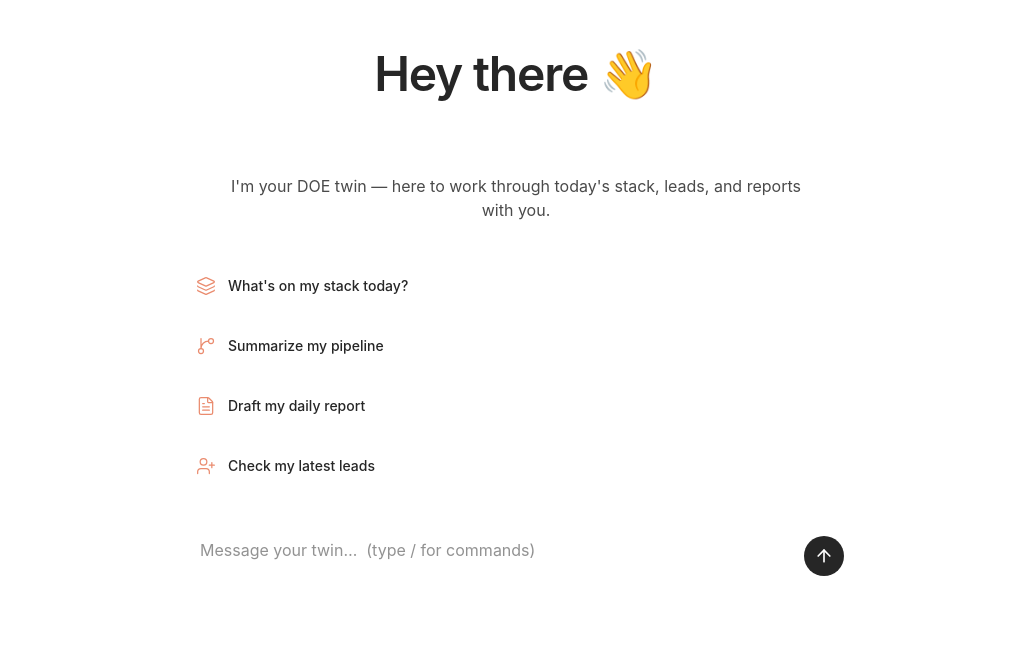
Scenario: HomeChat › appends the assistant reply on a successful turn and clears the input
Type "show my stack" into the text box labelled "Message" at x=492, y=550, box 188,530 -> 796,570
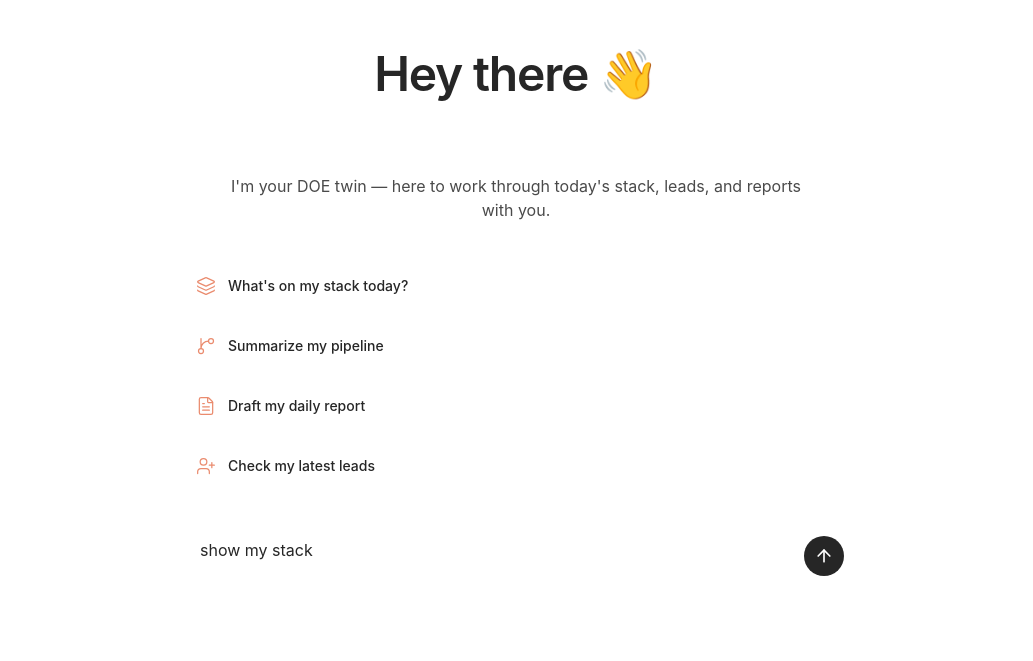
Click the button named "send" at x=824, y=556, box 804,536 -> 844,576
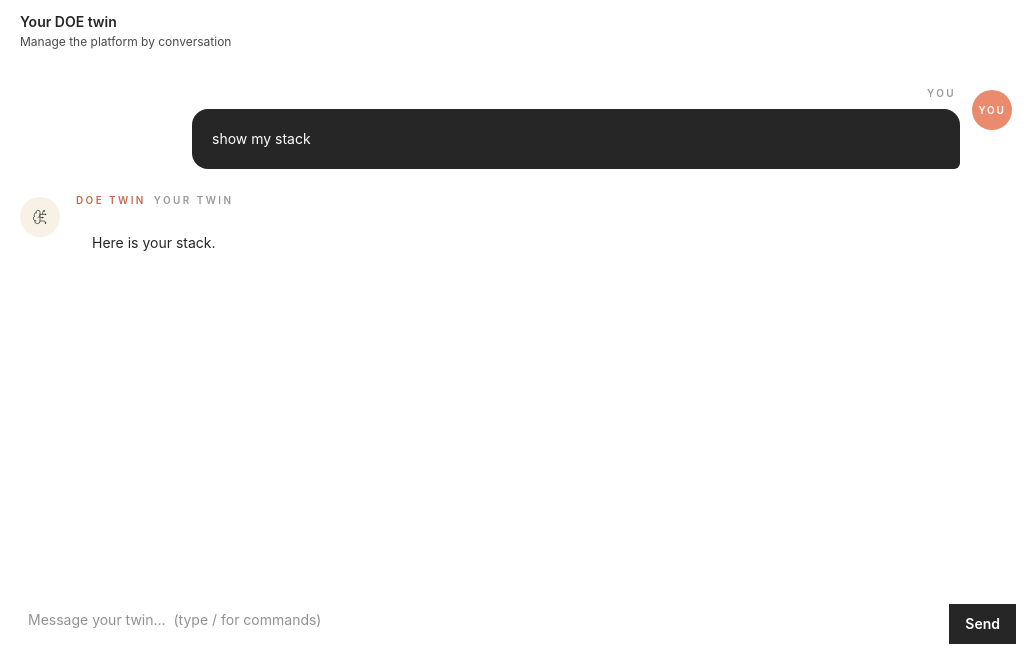
Check: the text "Here is your stack." is shown, box 92,234 -> 216,251
Check: the text box labelled "Message" is empty, box 16,602 -> 941,638
